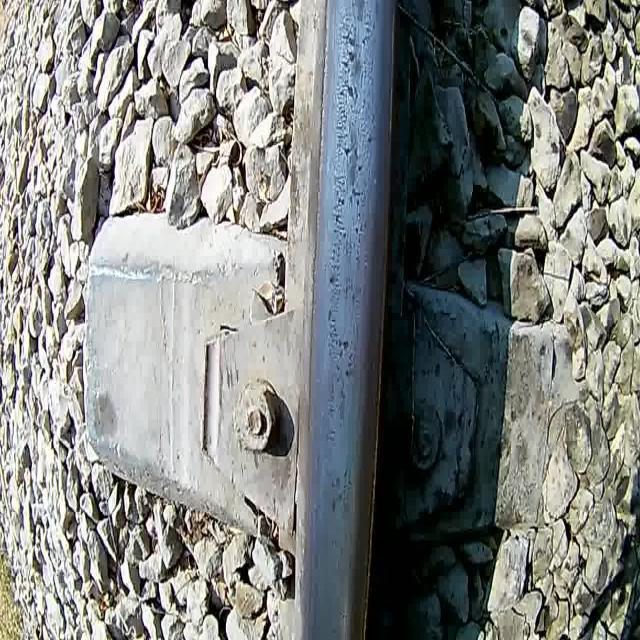Squats: (324, 208, 368, 445), (330, 0, 377, 209), (326, 456, 357, 529)
